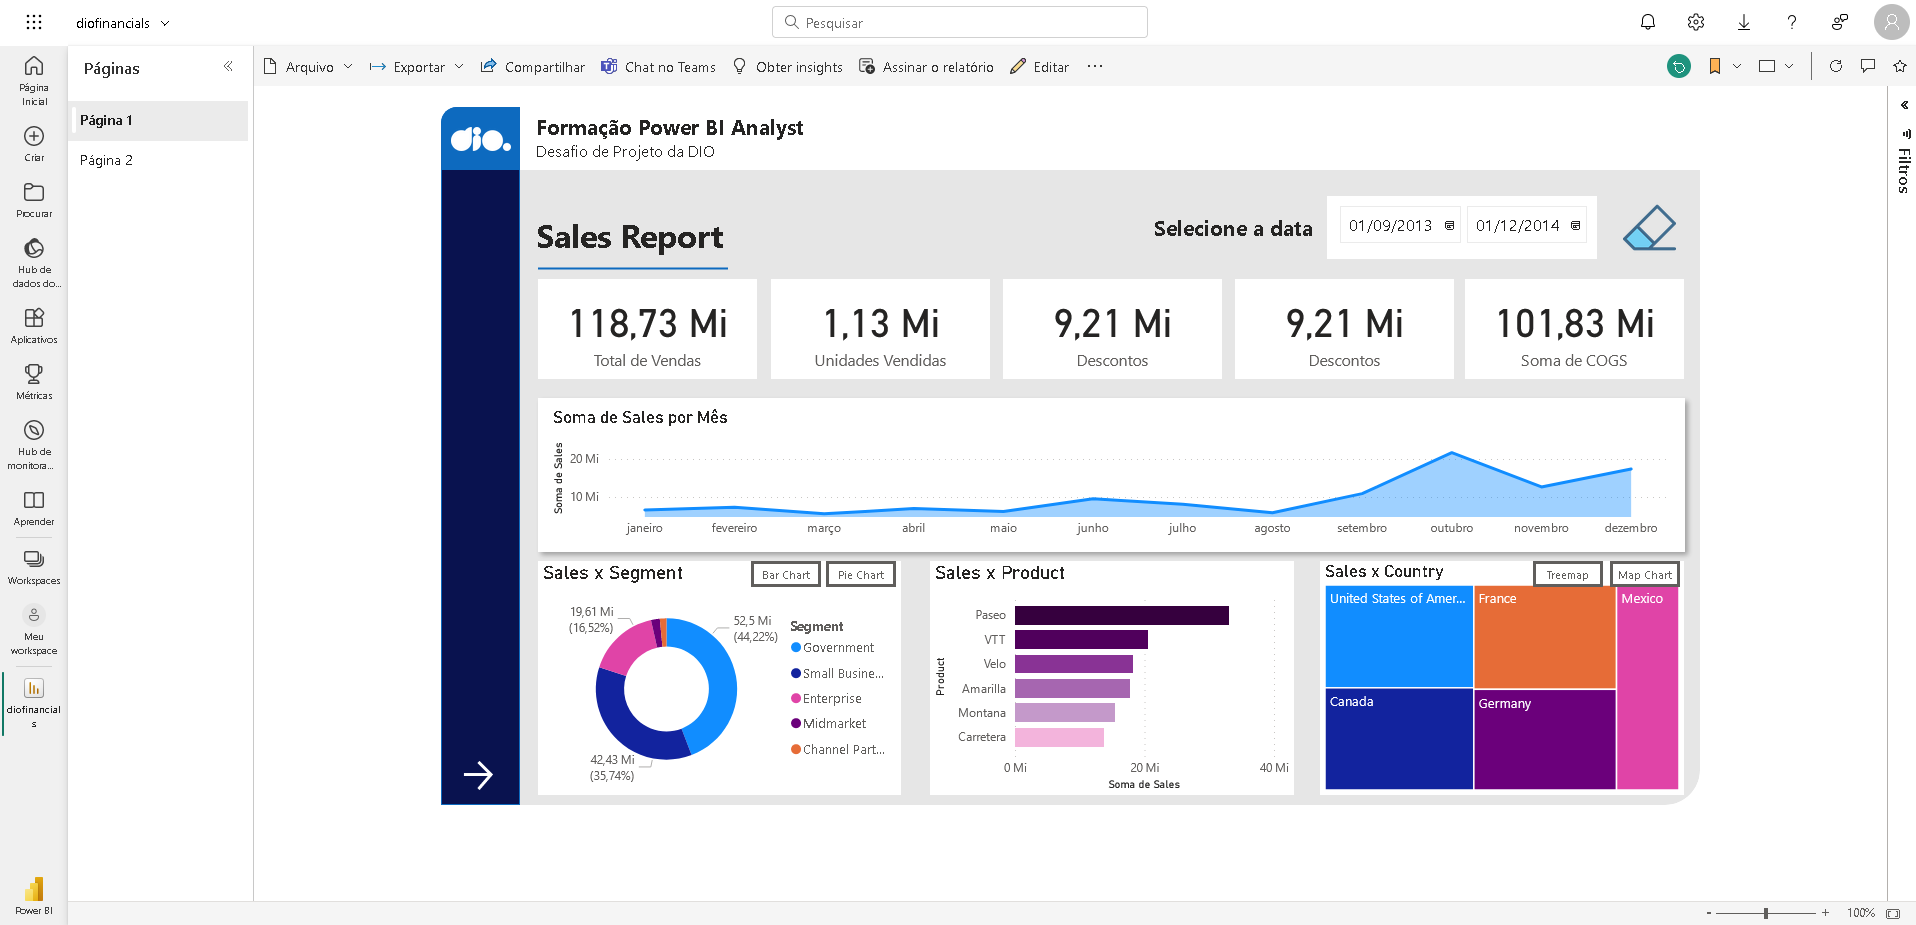

The dashboard page shown, as its layout file describes it:
{"tool":"powerbi","page":{"name":"Página 1","canvas":[1280,720],"ordinal":0},"visuals":[{"type":"shape","box":[9.7,10.7,1259.6,697.8],"z":0},{"type":"image","title":"logo_borracha","box":[1183.8,100,68.8,62.5],"z":0,"group":"g2"},{"type":"shape","box":[106.9,152.2,189.8,41.2],"z":0,"group":"g5"},{"type":"shape","box":[107,183,219,100],"z":0,"group":"g1"},{"type":"shape","title":"Fundo Sales Segment","box":[107,465,363,234],"z":0,"group":"g4"},{"type":"shape","title":"Fundo Sales x Country","box":[889,465,364,234],"z":0,"group":"g3"},{"type":"shape","box":[10,11,79,698],"z":1000},{"type":"slicer","fields":{"Values":["financials.Date"]},"box":[896,100,270,63],"z":1000,"group":"g2"},{"type":"textbox","box":[99.9,112,226.1,61.2],"z":1000,"group":"g5"},{"type":"shape","box":[340,183,219,100],"z":1000,"group":"g1"},{"type":"donutChart","title":"Sales x Segment ","fields":{"Y":["Sum(financials. Sales)"],"Category":["financials.Segment"]},"box":[107,465,363,234],"z":1000,"group":"g4"},{"type":"treemap","title":"Sales x Country","fields":{"Group":["financials.Country"],"Values":["Sum(financials. Sales)"]},"box":[889,465,364,234],"z":1000,"group":"g3"},{"type":"shape","box":[10,11,79,63],"z":2000},{"type":"textbox","box":[718,112,171,41],"z":2000,"group":"g2"},{"type":"shape","box":[572,183,218.8,100],"z":2000,"group":"g1"},{"type":"actionButton","title":"Botão map","box":[1178.8,465,70,26.2],"z":2500,"group":"g3"},{"type":"actionButton","title":"Botão pie","box":[394.7,465.3,70,25.9],"z":2500,"group":"g4"},{"type":"image","title":"logo_dio","box":[15,5,70,76],"z":3000},{"type":"actionButton","box":[1184,100,65,63],"z":3000,"group":"g2"},{"type":"shape","box":[803.9,183,219.2,100],"z":3000,"group":"g1"},{"type":"actionButton","title":"Botão tree","box":[1101.9,465,70,26.2],"z":3000,"group":"g3"},{"type":"actionButton","title":"Botão bar","box":[320,465.3,70,25.9],"z":3000,"group":"g4"},{"type":"shape","box":[89,11,1181,63],"z":4000},{"type":"shape","box":[1034,183,219,100],"z":4000,"group":"g1"},{"type":"textbox","box":[100,11,540,63],"z":5000},{"type":"card","fields":{"Values":["Sum(financials.COGS)"]},"box":[1034,183,219,100],"z":5000,"group":"g1"},{"type":"group","id":"g1","title":"Cartões","box":[107,183,1146,100],"z":6000},{"type":"card","fields":{"Values":["Sum(financials.Discounts)"]},"box":[804,183,219,100],"z":6000,"group":"g1"},{"type":"card","fields":{"Values":["Sum(financials.Discounts)"]},"box":[572,183,219,100],"z":7000,"group":"g1"},{"type":"shape","box":[98,293,1165,172],"z":7000},{"type":"card","fields":{"Values":["Sum(financials.Units Sold)"]},"box":[340,183,219,100],"z":8000,"group":"g1"},{"type":"shape","box":[499,465,364,234],"z":8000},{"type":"card","fields":{"Values":["Sum(financials. Sales)"]},"box":[107,183,219,100],"z":9000,"group":"g1"},{"type":"areaChart","fields":{"Category":["financials.Date.Variation.Hierarquia de datas.Mês"],"Y":["Sum(financials. Sales)"]},"box":[117,311,1124,139],"z":9000},{"type":"clusteredBarChart","title":"Sales x Product","fields":{"Y":["Sum(financials. Sales)"],"Category":["financials.Product"]},"box":[499,465,364,234],"z":10000},{"type":"actionButton","box":[27,660,45,39],"z":10750},{"type":"group","id":"g2","title":"Filtro por Data","box":[718,100,534.5,63],"z":11000},{"type":"group","id":"g3","title":"Sales x País","box":[889,465,364,234],"z":12000},{"type":"group","id":"g4","title":"Sales x Segment","box":[107,465,363,234],"z":13000},{"type":"group","id":"g5","title":"Título Report","box":[99.9,112,226.1,81.3],"z":14000}]}

Visuals, with their boxes on the page's 1280x720 design canvas (x1, y1, x2, y2). These are canvas units, not pixel positions in the 1916x925 screenshot, which may show the page scaled, cropped or inside an application window:
shape: select_region(10, 11, 1269, 708)
"logo_borracha" image: select_region(1184, 100, 1253, 162)
shape: select_region(107, 152, 297, 193)
shape: select_region(107, 183, 326, 283)
"Fundo Sales Segment" shape: select_region(107, 465, 470, 699)
"Fundo Sales x Country" shape: select_region(889, 465, 1253, 699)
shape: select_region(10, 11, 89, 709)
slicer - financials.Date: select_region(896, 100, 1166, 163)
textbox: select_region(100, 112, 326, 173)
shape: select_region(340, 183, 559, 283)
"Sales x Segment " donutChart: select_region(107, 465, 470, 699)
"Sales x Country" treemap: select_region(889, 465, 1253, 699)
shape: select_region(10, 11, 89, 74)
textbox: select_region(718, 112, 889, 153)
shape: select_region(572, 183, 791, 283)
"Botão map" actionButton: select_region(1179, 465, 1249, 491)
"Botão pie" actionButton: select_region(395, 465, 465, 491)
"logo_dio" image: select_region(15, 5, 85, 81)
actionButton: select_region(1184, 100, 1249, 163)
shape: select_region(804, 183, 1023, 283)
"Botão tree" actionButton: select_region(1102, 465, 1172, 491)
"Botão bar" actionButton: select_region(320, 465, 390, 491)
shape: select_region(89, 11, 1270, 74)
shape: select_region(1034, 183, 1253, 283)
textbox: select_region(100, 11, 640, 74)
card - Sum(financials.COGS): select_region(1034, 183, 1253, 283)
"Cartões" group: select_region(107, 183, 1253, 283)
card - Sum(financials.Discounts): select_region(804, 183, 1023, 283)
card - Sum(financials.Discounts): select_region(572, 183, 791, 283)
shape: select_region(98, 293, 1263, 465)
card - Sum(financials.Units Sold): select_region(340, 183, 559, 283)
shape: select_region(499, 465, 863, 699)
card - Sum(financials. Sales): select_region(107, 183, 326, 283)
areaChart - financials.Date.Variation.Hierarquia de datas.Mês x Sum(financials. Sales): select_region(117, 311, 1241, 450)
"Sales x Product" clusteredBarChart: select_region(499, 465, 863, 699)
actionButton: select_region(27, 660, 72, 699)
"Filtro por Data" group: select_region(718, 100, 1252, 163)
"Sales x País" group: select_region(889, 465, 1253, 699)
"Sales x Segment" group: select_region(107, 465, 470, 699)
"Título Report" group: select_region(100, 112, 326, 193)
